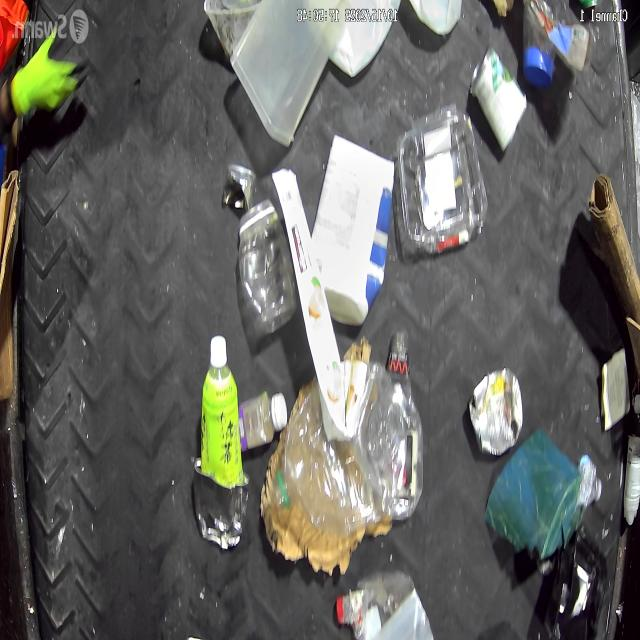can: (471, 45, 528, 154), (193, 457, 250, 548), (468, 366, 524, 458), (223, 162, 256, 211)
milk_jug: (330, 0, 402, 77), (409, 0, 462, 35)
plastic_bottle: (268, 360, 402, 533), (396, 103, 488, 256), (237, 198, 297, 339), (385, 330, 424, 521), (201, 333, 244, 487), (520, 0, 588, 87), (335, 567, 416, 640), (237, 390, 288, 452), (577, 454, 602, 506)
